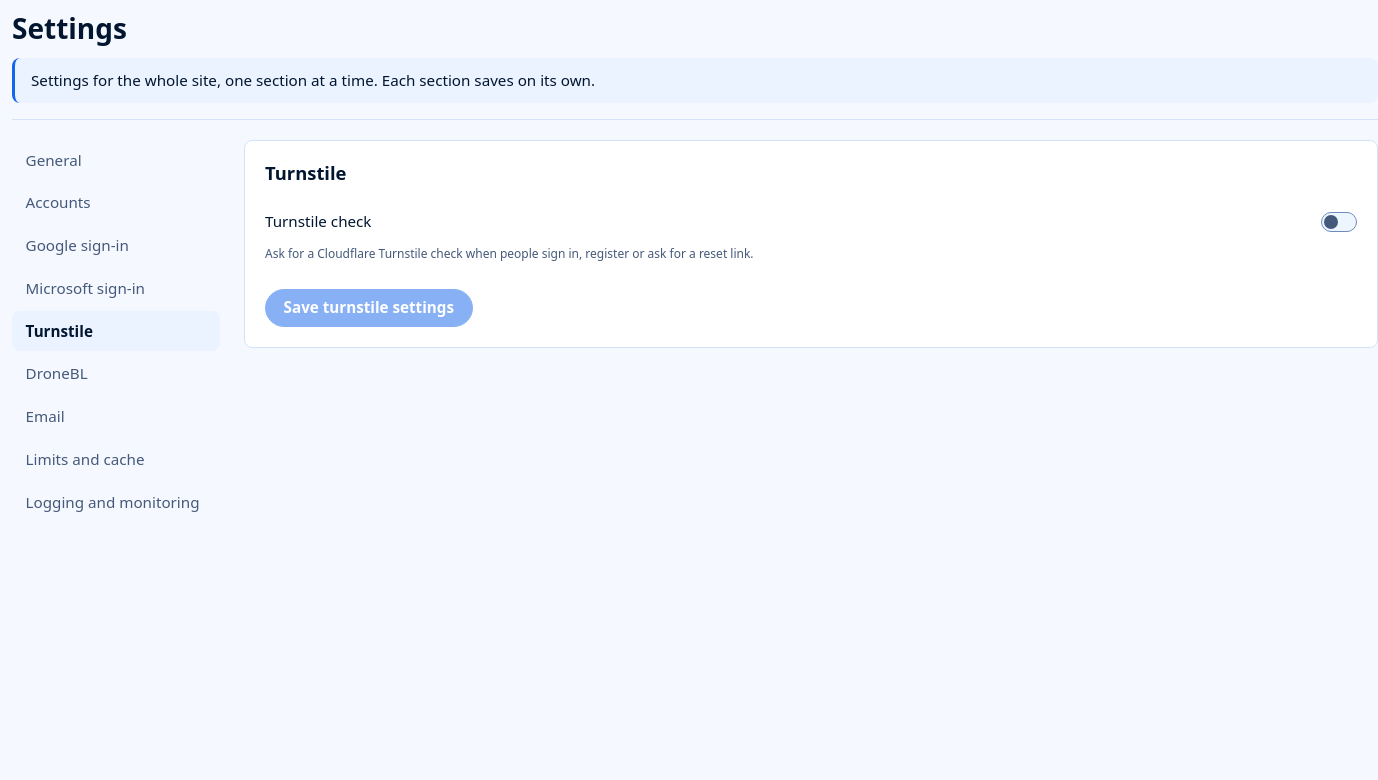
Test: AdminSettingsPage › shows the Turnstile keys only while Turnstile is on
Click the switch named "Turnstile check" at (1339, 222), box 253,201 -> 1369,273
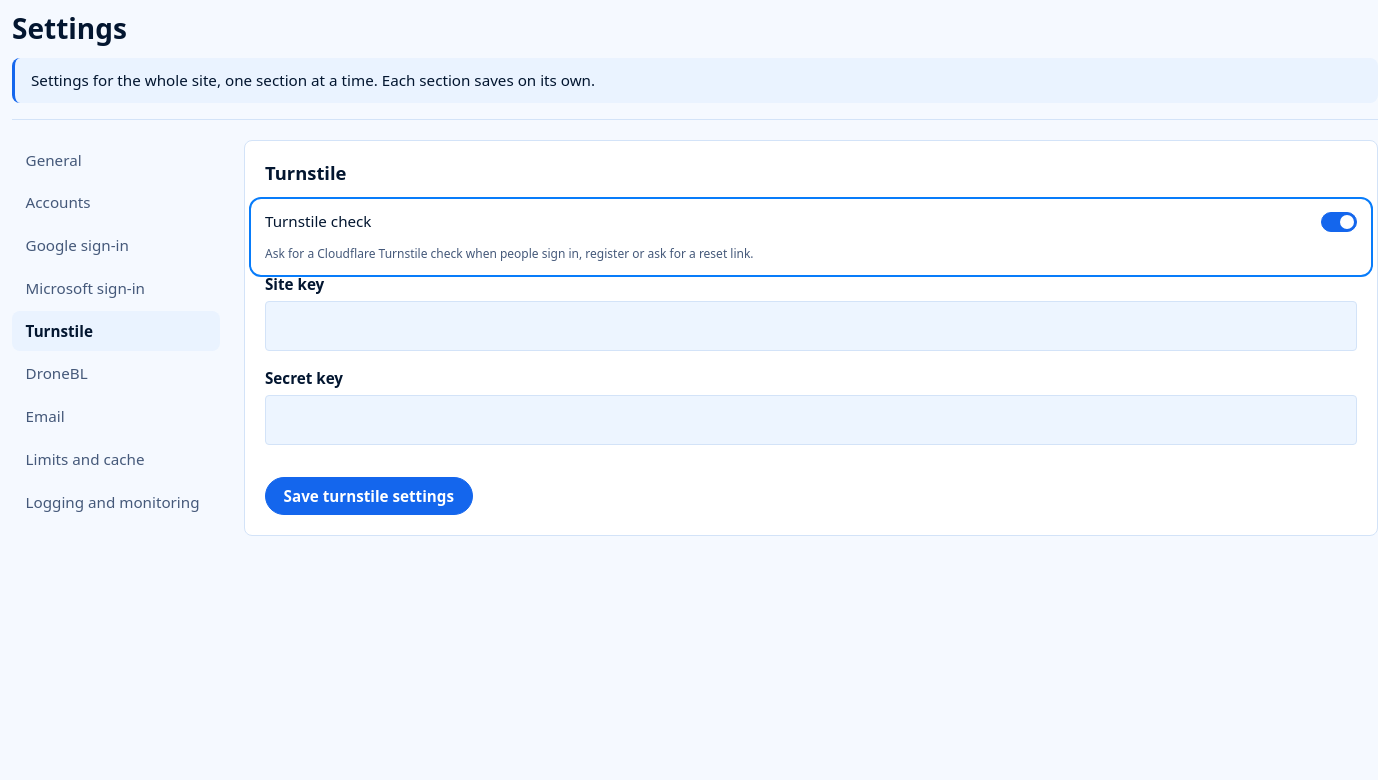
Check: the field labelled "Site key" is shown, box 265,301 -> 1357,351
Check: the password field labelled "Secret key" is shown, box 265,396 -> 1357,446
